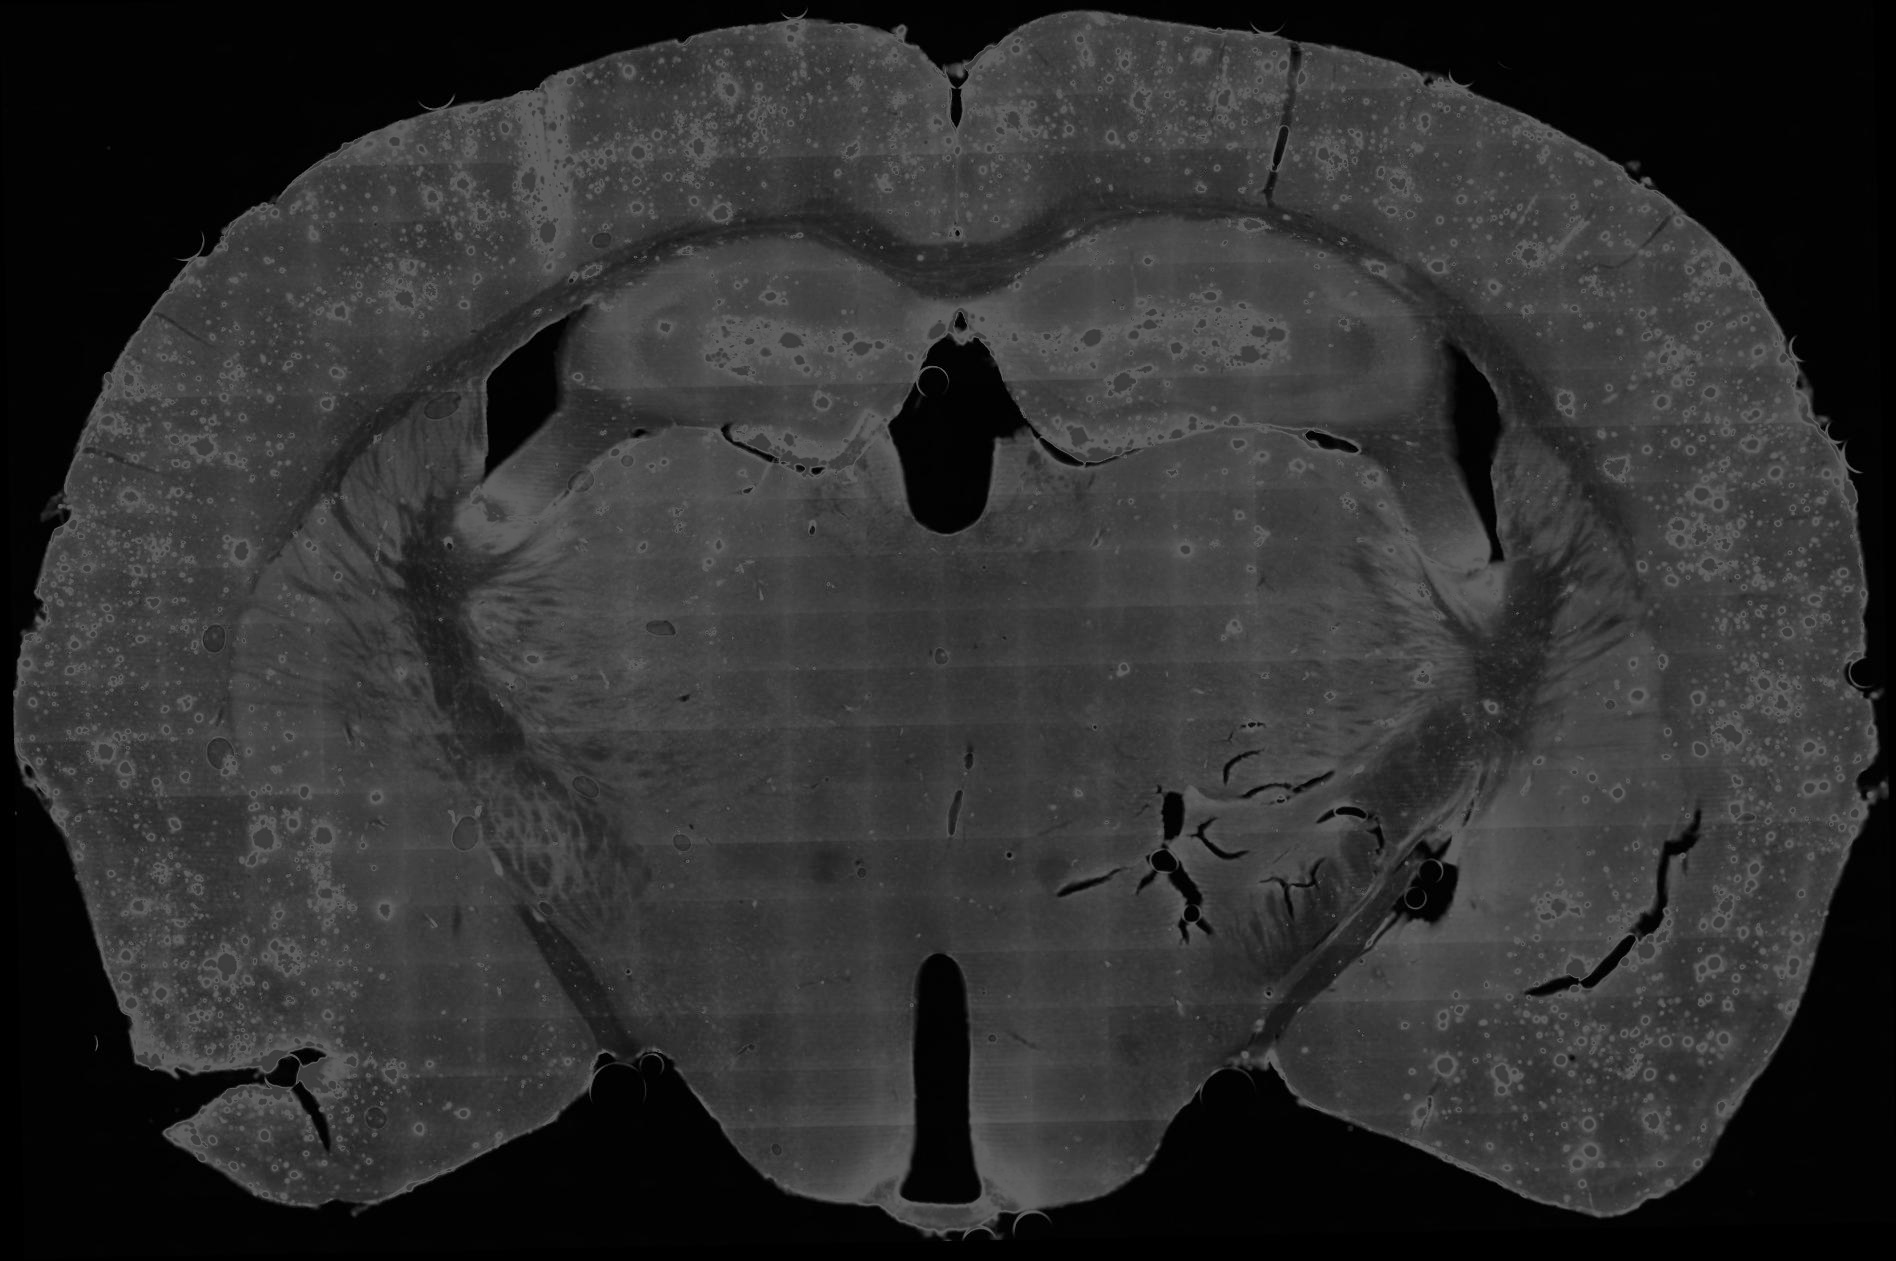Cerebral nuclei: (228, 373, 486, 936), (1471, 424, 1661, 920)
Hippocampal formation: (960, 218, 1439, 462), (587, 236, 960, 469)
Hypothalamus: (942, 725, 1412, 1233), (538, 858, 943, 1234)
Retrosplenial area: (830, 32, 957, 248), (957, 24, 1063, 243)
Somatosensory area: (55, 37, 732, 574), (1267, 39, 1814, 493)
Thalamus: (942, 425, 1475, 881), (460, 410, 944, 882)
